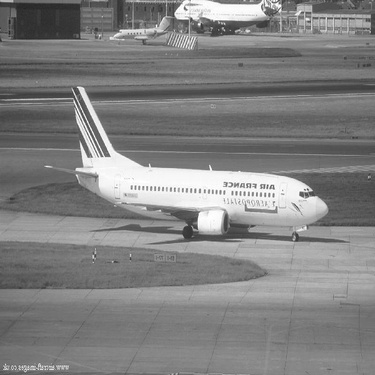airplane: (39, 55, 336, 260), (169, 1, 310, 23), (90, 19, 195, 36)
